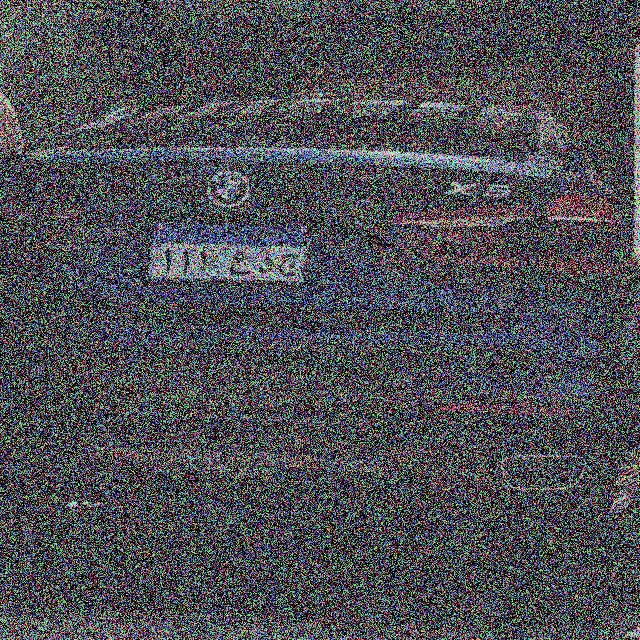License Plate: (141, 217, 313, 287)
